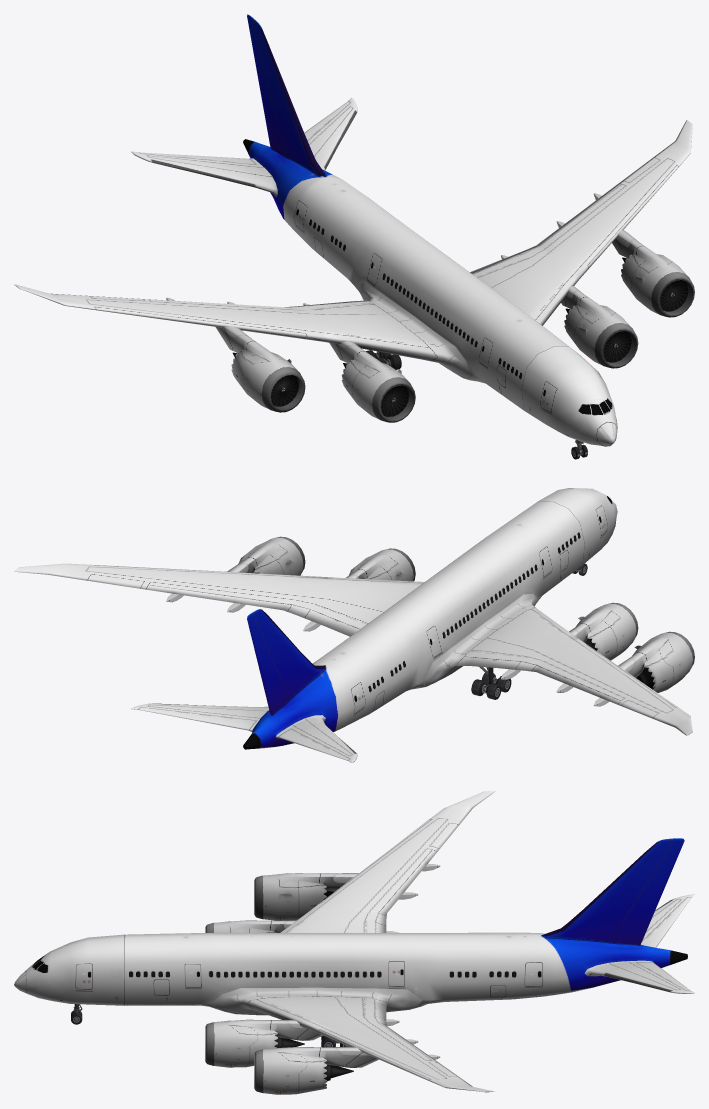
The model's file is Broken Plane.fbx.
3 renders of one model, top to bottom at view 1: azimuth 30°, elevation 25°; view 2: azimuth 150°, elevation 25°; view 3: azimuth 270°, elevation 25°, orthographic. The views are drawn at different scales.
Visible parts, largest first — view 1: Right Wing, Left Wing, Cabin1, Cabin2, Engine, Engine.003, Cockpit, Tail, Vertical Stabilizer, Horizontal Stabilizer, Horizontal Stabilizer.002; view 2: Right Wing, Left Wing, Cabin1, Cabin2, Tail, Engine, Vertical Stabilizer, Engine.003, Cockpit, Horizontal Stabilizer.002, Horizontal Stabilizer, Back landing Gear; view 3: Cabin1, Cabin2, Left Wing, Tail, Right Wing, Engine.003, Vertical Stabilizer, Cockpit, Engine, Horizontal Stabilizer.002, Horizontal Stabilizer.
Boxes of the visible parts, x1=… form: Right Wing: x1=14, y1=281, x2=472, y2=377; Left Wing: x1=470, y1=120, x2=692, y2=325; Cabin1: x1=417, y1=270, x2=575, y2=410; Cabin2: x1=326, y1=202, x2=472, y2=317; Engine: x1=215, y1=326, x2=415, y2=422; Engine.003: x1=561, y1=229, x2=694, y2=368; Cockpit: x1=521, y1=346, x2=617, y2=446; Tail: x1=243, y1=139, x2=382, y2=261; Vertical Stabilizer: x1=247, y1=14, x2=326, y2=177; Horizontal Stabilizer: x1=131, y1=151, x2=277, y2=197; Horizontal Stabilizer.002: x1=304, y1=98, x2=357, y2=170; Right Wing: x1=424, y1=593, x2=692, y2=735; Left Wing: x1=14, y1=563, x2=424, y2=636; Cabin1: x1=429, y1=501, x2=584, y2=621; Cabin2: x1=338, y1=574, x2=485, y2=702; Tail: x1=243, y1=642, x2=389, y2=749; Engine: x1=569, y1=602, x2=694, y2=692; Vertical Stabilizer: x1=247, y1=609, x2=326, y2=715; Engine.003: x1=227, y1=536, x2=415, y2=581; Cockpit: x1=538, y1=488, x2=617, y2=564; Horizontal Stabilizer.002: x1=131, y1=703, x2=269, y2=731; Horizontal Stabilizer: x1=275, y1=715, x2=357, y2=762; Back landing Gear: x1=471, y1=666, x2=511, y2=699; Cabin1: x1=124, y1=933, x2=310, y2=1015; Cabin2: x1=310, y1=932, x2=481, y2=1012; Left Wing: x1=211, y1=987, x2=494, y2=1092; Tail: x1=481, y1=932, x2=687, y2=1000; Right Wing: x1=280, y1=791, x2=495, y2=932; Engine.003: x1=205, y1=1019, x2=378, y2=1094; Vertical Stabilizer: x1=541, y1=838, x2=684, y2=945; Cockpit: x1=14, y1=934, x2=124, y2=1005; Engine: x1=205, y1=873, x2=358, y2=932; Horizontal Stabilizer.002: x1=584, y1=960, x2=694, y2=993; Horizontal Stabilizer: x1=641, y1=894, x2=694, y2=947.
Size of the model in its own units: 317 by 90.89 by 303.
Materials: 1 (1 with a texture image).
